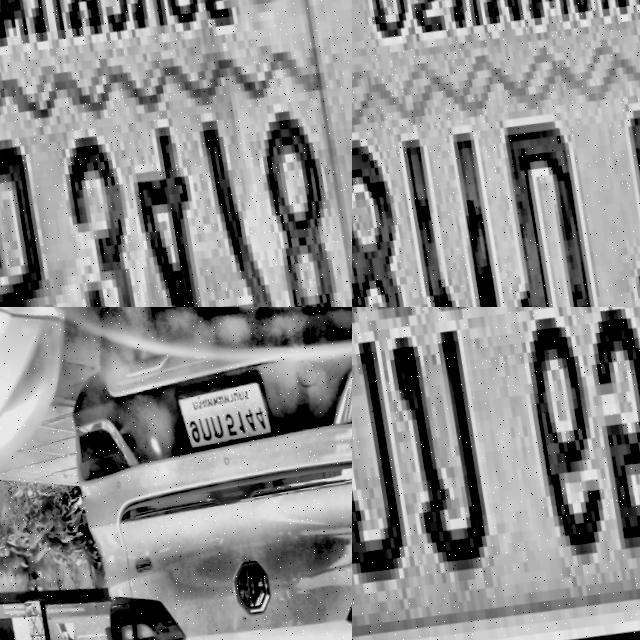license-plate: (0, 0, 352, 307), (352, 307, 640, 640), (352, 0, 640, 307), (173, 370, 276, 455)
